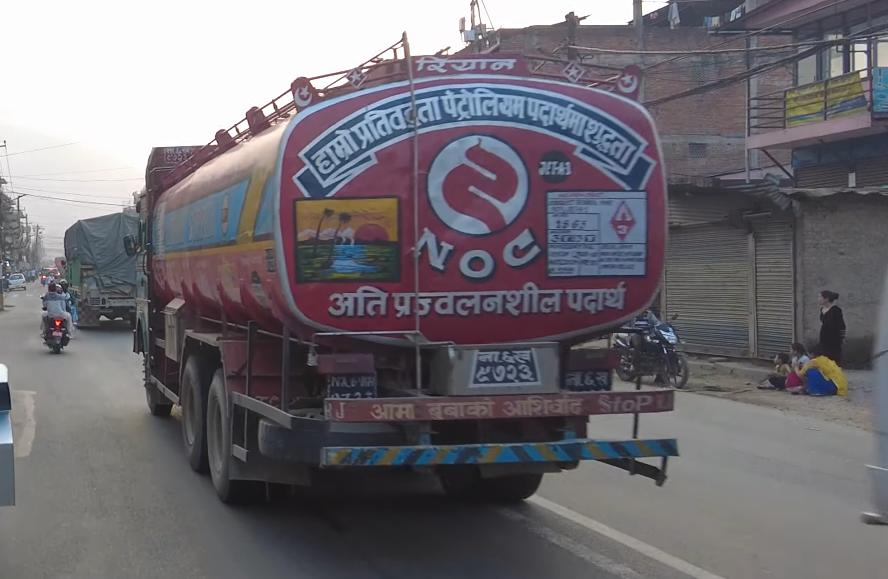bike: (610, 309, 689, 388)
truck: (125, 29, 685, 505), (62, 209, 141, 329)
